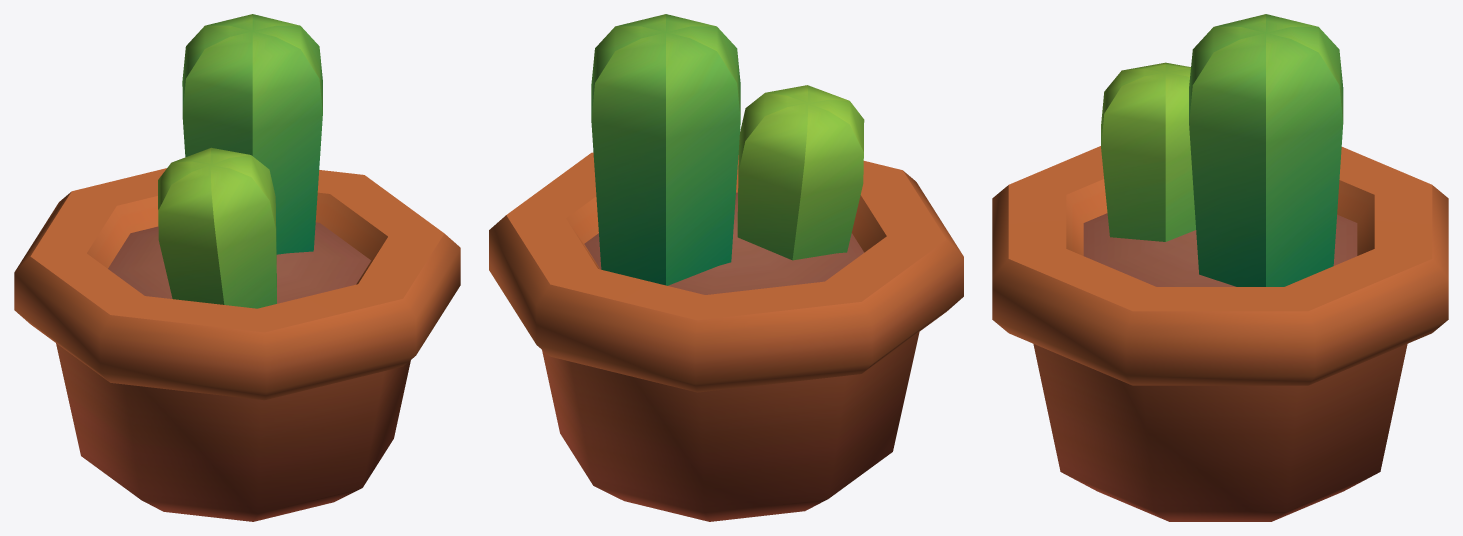
File: cactus-small-a.glb
3 renders of one model, left to right at view 1: azimuth 30°, elevation 25°; view 2: azimuth 150°, elevation 25°; view 3: azimuth 270°, elevation 25°, orthographic. The views are drawn at different scales.
Parts seen in each view (by area): view 1: cactus_small_A; view 2: cactus_small_A; view 3: cactus_small_A.
Boxes of the visible parts, <box> form: cactus_small_A: <box>14,14,460,521</box>; cactus_small_A: <box>489,14,963,521</box>; cactus_small_A: <box>992,14,1448,521</box>.
Size of the model in its own units: 0.5 by 0.5516 by 0.5.
1 material, 1 textured.
